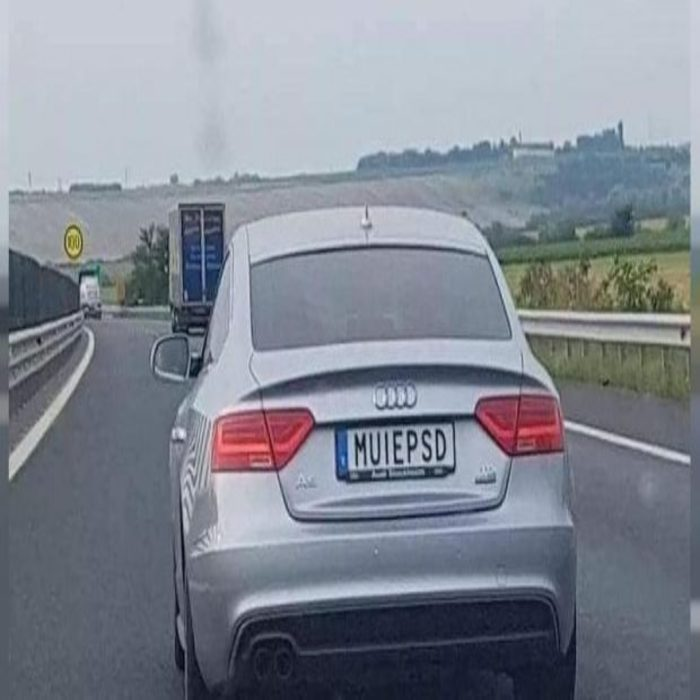n: (333, 423, 462, 480)
